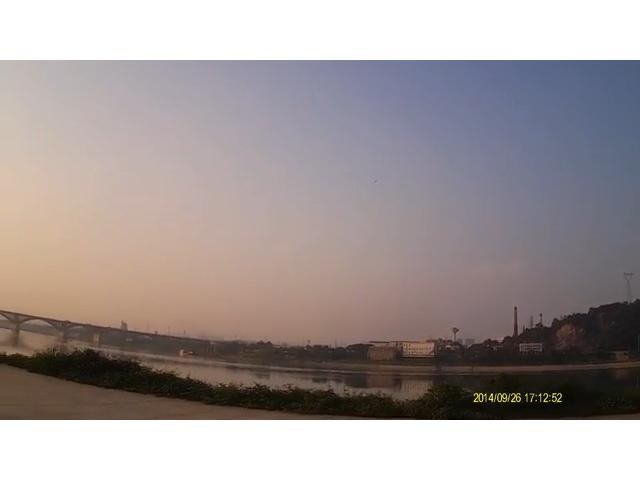Anti-Drone: (367, 174, 385, 188)
